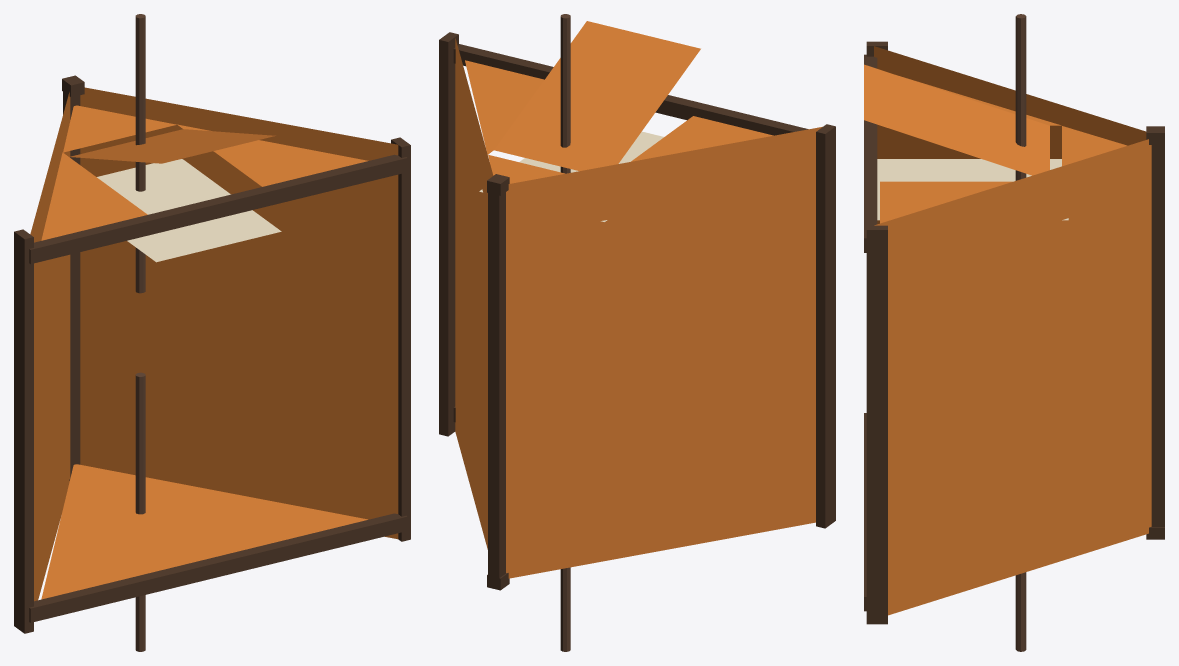
Rendered from tent.glb.
3 views of the same model, side by side, from view 1: azimuth 30°, elevation 25°; view 2: azimuth 150°, elevation 25°; view 3: azimuth 270°, elevation 25° (orthographic).
Visible parts, largest first — view 1: Tent_Body, Tent_Inner, Tent_Poles, Tent_Flap; view 2: Tent_Body, Tent_Flap, Tent_Poles, Tent_Inner; view 3: Tent_Body, Tent_Flap, Tent_Inner, Tent_Poles.
Boxes of the visible parts, x1,y1,x2,y2 form: Tent_Body: [14, 75, 410, 633]; Tent_Inner: [97, 159, 281, 262]; Tent_Poles: [135, 14, 145, 651]; Tent_Flap: [70, 129, 275, 163]; Tent_Body: [439, 32, 835, 590]; Tent_Flap: [494, 21, 700, 170]; Tent_Poles: [560, 14, 570, 651]; Tent_Inner: [479, 131, 663, 221]; Tent_Body: [864, 41, 1164, 624]; Tent_Flap: [864, 64, 1049, 175]; Tent_Inner: [877, 159, 1068, 220]; Tent_Poles: [1015, 14, 1026, 651].
Bounding box in the file's own units: 3.38 × 5.3 × 2.28.
